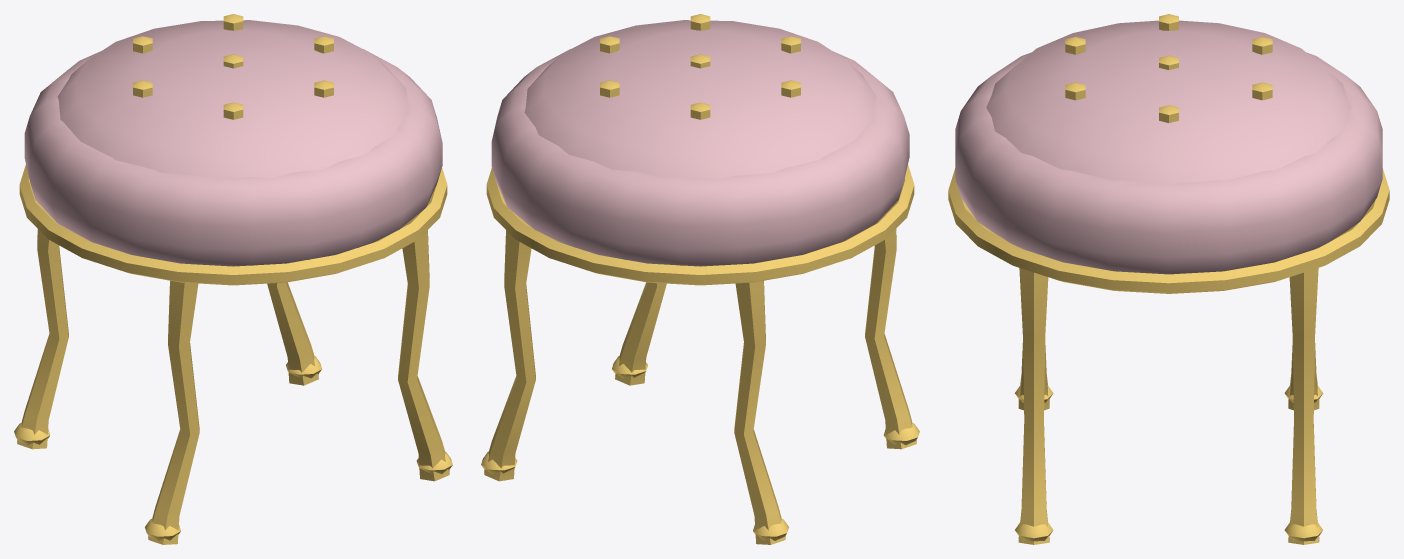
File: stool_tufted.glb
3 views of the same model, side by side, from view 1: azimuth 30°, elevation 25°; view 2: azimuth 150°, elevation 25°; view 3: azimuth 270°, elevation 25° (orthographic). The views are drawn at different scales.
Parts seen in each view (by area): view 1: stool_tufted; view 2: stool_tufted; view 3: stool_tufted.
Part boxes in pixels (<box>): stool_tufted: <box>14,14,452,544</box>; stool_tufted: <box>481,14,919,544</box>; stool_tufted: <box>948,14,1389,544</box>.
Size of the model in its own units: 0.4908 by 0.5134 by 0.4908.
